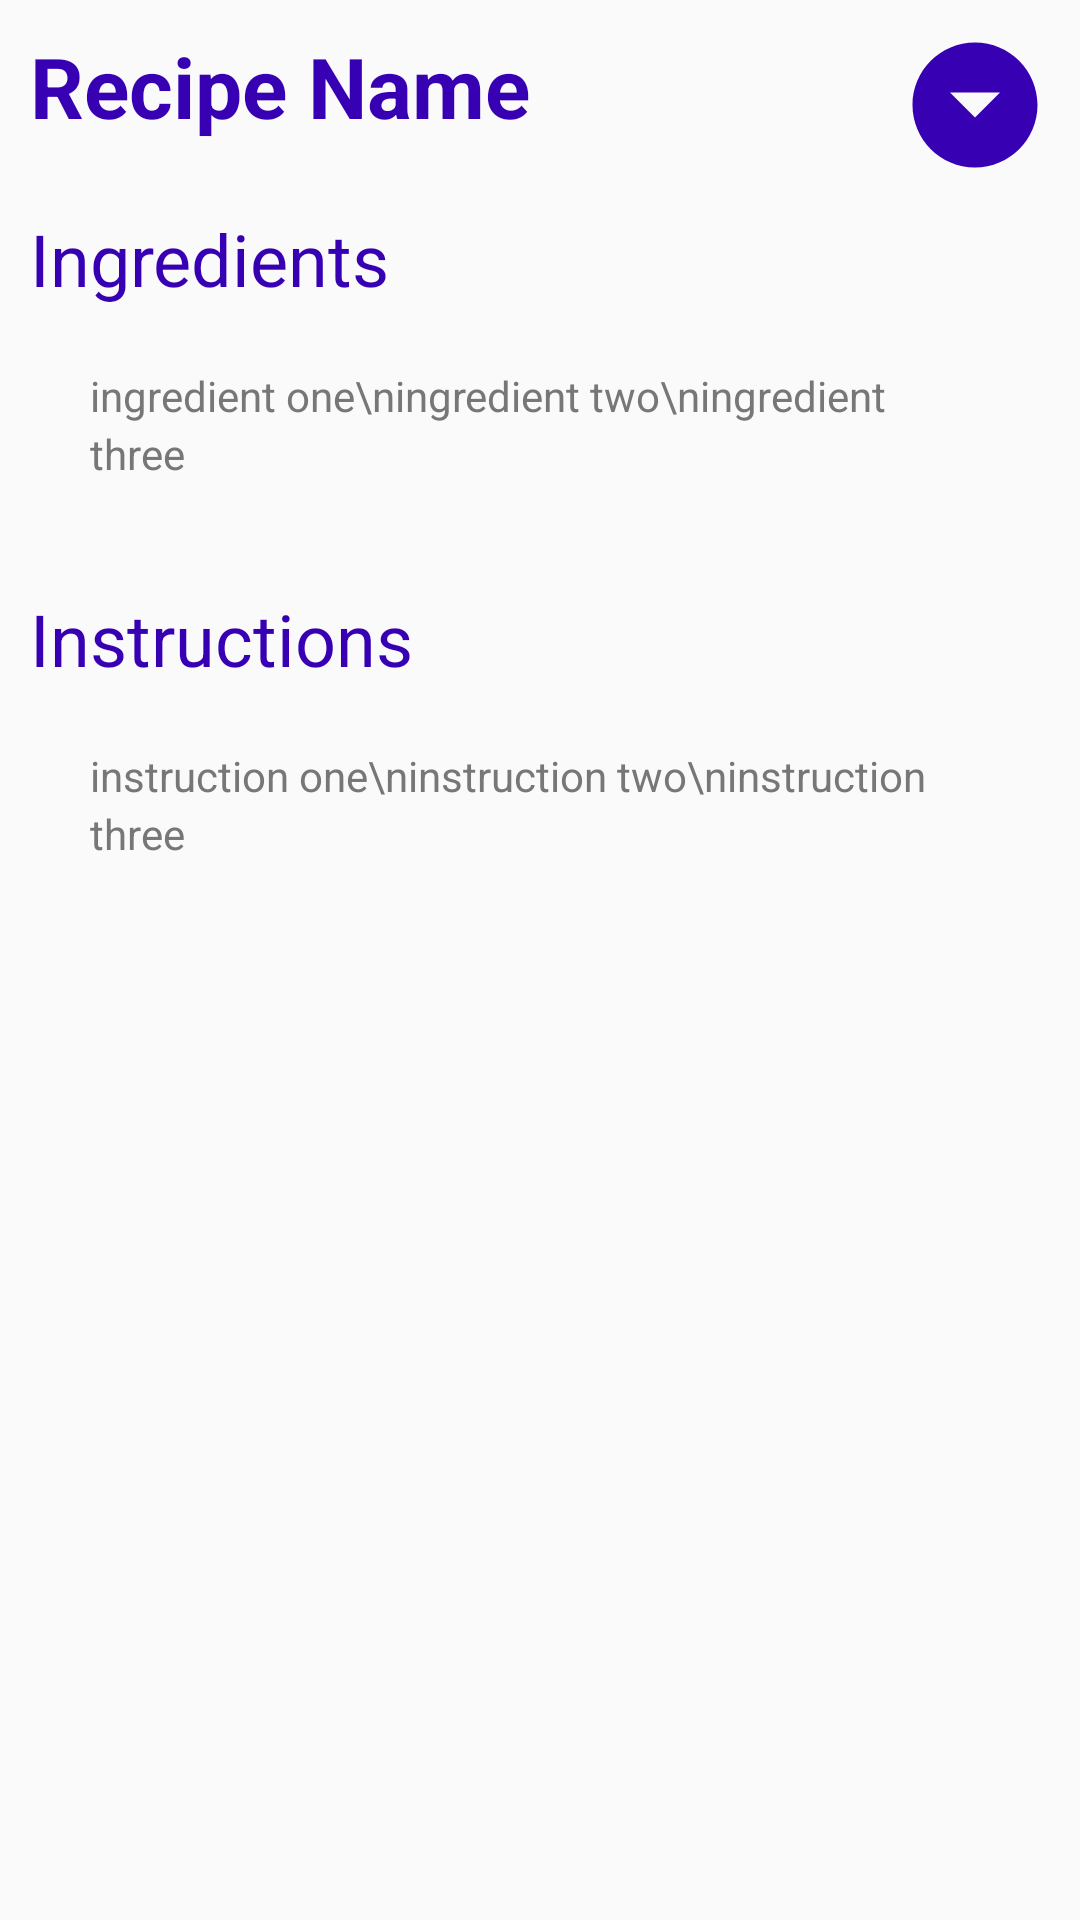

Named icons in this screenshot (1080×1920) and their bounding boxes, [x1,y1,x2,y2]:
arrow drop down circle: [912,42,1038,168]
